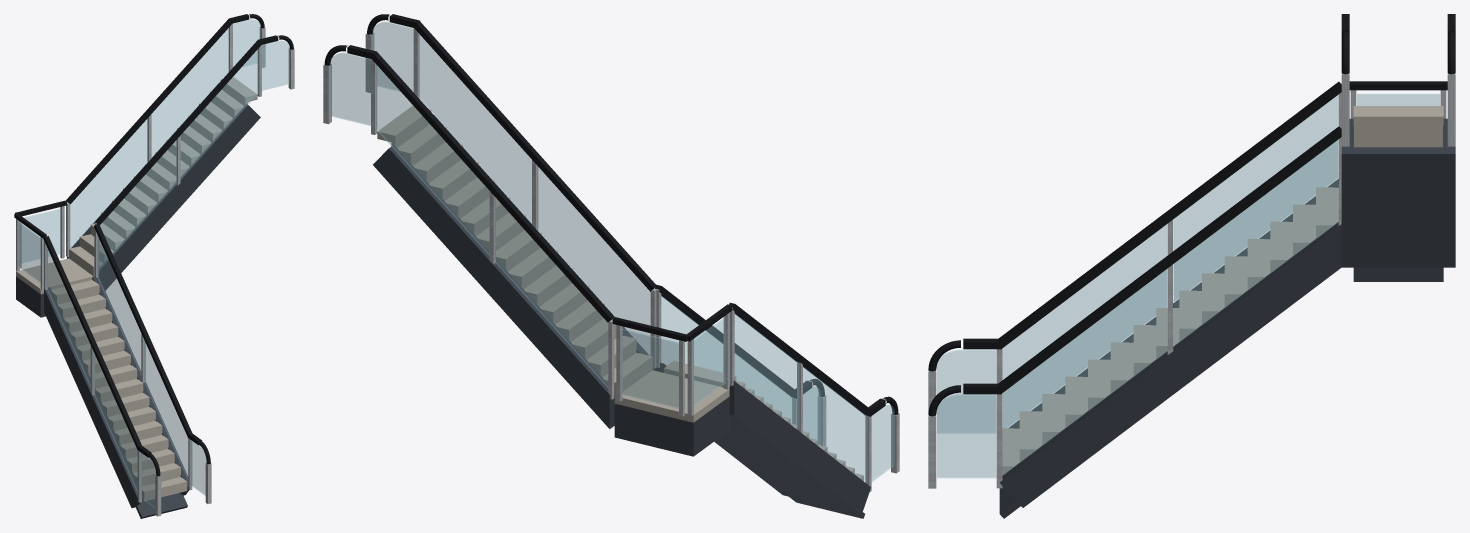
The model's file is stair-right90.glb.
3 views of the same model, side by side, from view 1: azimuth 30°, elevation 25°; view 2: azimuth 150°, elevation 25°; view 3: azimuth 270°, elevation 25° (orthographic). The views are drawn at different scales.
Visible parts, largest first — view 1: StairRight90, stair-stringer (×3), stair-riser (×15), stair-landing, stair-landing-surface, stair-soffit, stair-landing-frame; view 2: StairRight90, stair-stringer (×2), stair-landing, stair-landing-frame, stair-soffit, stair-landing-surface; view 3: StairRight90, stair-stringer (×4), stair-tread (×19), stair-soffit, stair-landing, stair-landing-frame.
Part boxes in pixels (x1,y1,x2,y2): StairRight90: (43,14,294,516); stair-stringer (×3): (44,104,260,507); stair-riser (×15): (56,284,187,501); stair-landing: (14,200,66,289); stair-landing-surface: (16,258,93,294); stair-soffit: (135,493,187,518); stair-landing-frame: (16,276,45,317); StairRight90: (323,14,899,492); stair-stringer (×2): (373,145,870,514); stair-landing: (612,304,732,416); stair-landing-frame: (614,396,729,456); stair-soffit: (716,416,864,518); stair-landing-surface: (614,370,729,422); StairRight90: (928,14,1455,488); stair-stringer (×4): (999,118,1455,507); stair-tread (×19): (1002,107,1443,474); stair-soffit: (1350,147,1446,267); stair-landing: (1349,81,1447,118); stair-landing-frame: (1353,267,1443,281).
Size of the model in its own units: 4.63 by 6.31 by 4.63.
Materials: 5 (1 with a texture image).
